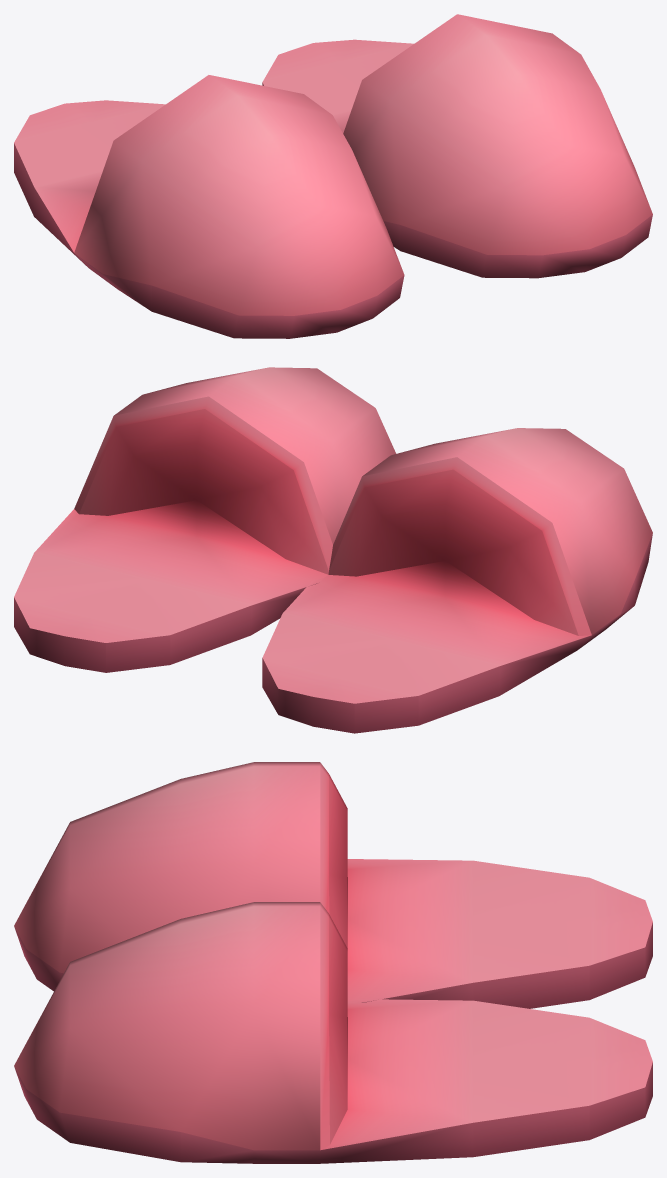
Rendered from Doll_OB_Slipper_001_Collider.FBX.
3 views of the same model, one above another, from view 1: azimuth 30°, elevation 25°; view 2: azimuth 150°, elevation 25°; view 3: azimuth 270°, elevation 25° (orthographic). The views are drawn at different scales.
Visible parts, largest first — view 1: Doll_OB_Slipper_001_Collider; view 2: Doll_OB_Slipper_001_Collider; view 3: Doll_OB_Slipper_001_Collider.
Boxes of the visible parts, x1=… form: Doll_OB_Slipper_001_Collider: x1=14, y1=14, x2=652, y2=338; Doll_OB_Slipper_001_Collider: x1=14, y1=367, x2=652, y2=733; Doll_OB_Slipper_001_Collider: x1=14, y1=762, x2=652, y2=1163.
Bounding box in the file's own units: 22.86 × 6.93 × 21.17.
